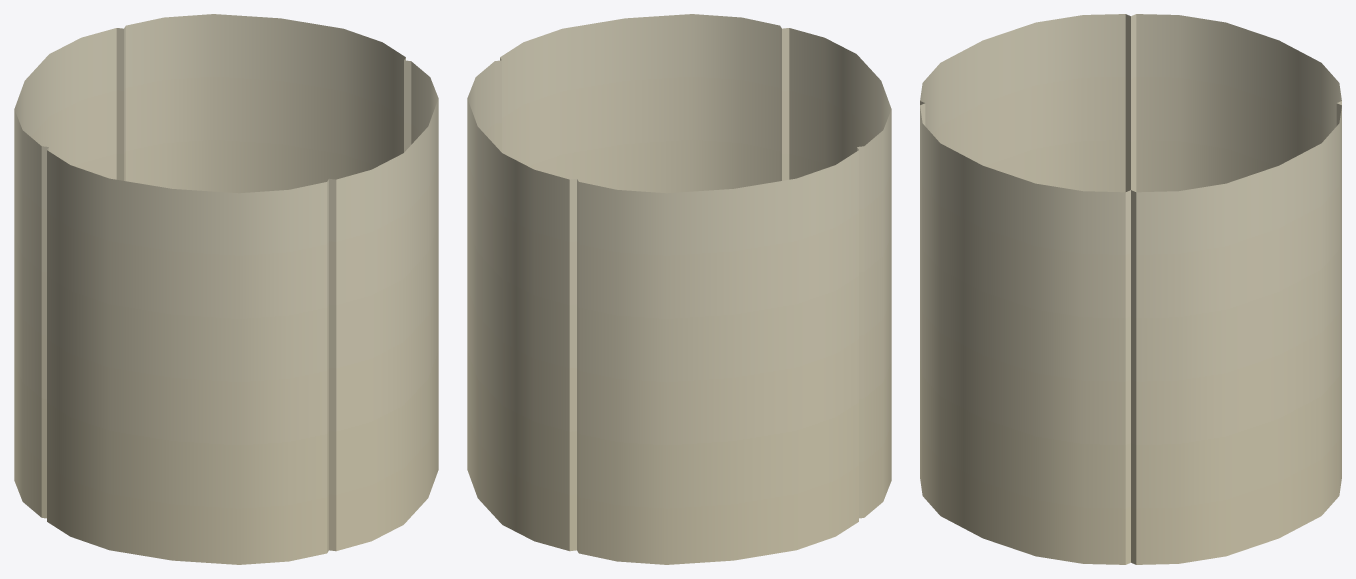
The model's file is sm_futuristic_pillar_middle.fbx.
The picture shows the model from 3 angles, left to right: view 1: azimuth 30°, elevation 25°; view 2: azimuth 150°, elevation 25°; view 3: azimuth 270°, elevation 25°; orthographic projection.
Visible parts, largest first — view 1: sm_futuristic_pillar_middle; view 2: sm_futuristic_pillar_middle; view 3: sm_futuristic_pillar_middle.
Boxes of the visible parts, <box> form: sm_futuristic_pillar_middle: <box>14,14,438,564</box>; sm_futuristic_pillar_middle: <box>467,14,891,564</box>; sm_futuristic_pillar_middle: <box>920,14,1341,564</box>.
Bounding box in the file's own units: 103 × 103 × 100.
